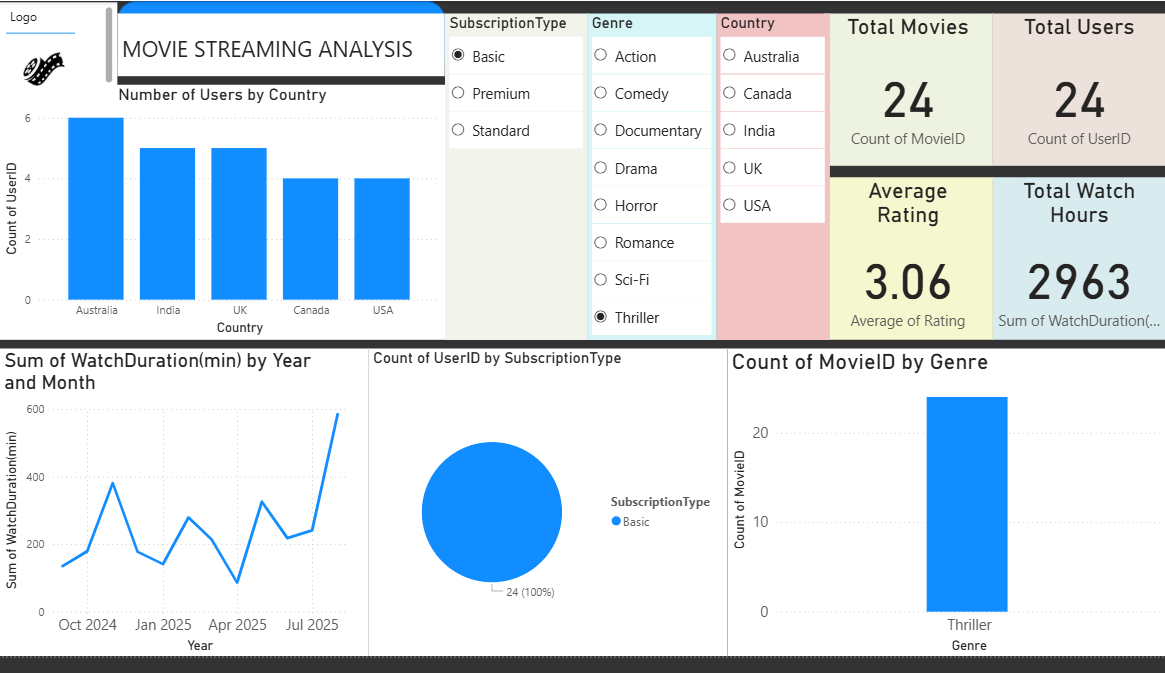

The dashboard page shown, as its layout file describes it:
{"tool":"powerbi","page":{"name":"Page 1","canvas":[1280,720],"ordinal":0},"visuals":[{"type":"card","title":"Total Watch Hours","fields":{"Values":["Sum(Movie_Streaming_Analytics.WatchDuration(min))"]},"box":[1089.5,193.5,190.7,178.4],"z":0},{"type":"card","title":"Total Movies","fields":{"Values":["CountNonNull(Movie_Streaming_Analytics.MovieID)"]},"box":[904.3,13.7,185.2,167.4],"z":1000},{"type":"card","title":"Average Rating","fields":{"Values":["Avg(Movie_Streaming_Analytics.Rating)"]},"box":[904.3,193.5,185.2,178.4],"z":2000},{"type":"card","title":"Total Users","fields":{"Values":["CountNonNull(Movie_Streaming_Analytics.UserID)"]},"box":[1089.5,13.7,190.7,167.4],"z":3000},{"type":"clusteredColumnChart","fields":{"Category":["Movie_Streaming_Analytics.Genre"],"Y":["CountNonNull(Movie_Streaming_Analytics.MovieID)"]},"box":[798.6,381.5,481.6,338.9],"z":4000},{"type":"lineChart","fields":{"Y":["Sum(Movie_Streaming_Analytics.WatchDuration(min))"],"Category":["Movie_Streaming_Analytics.ReleaseDate.Variation.Date Hierarchy.Year","Movie_Streaming_Analytics.ReleaseDate.Variation.Date Hierarchy.Month"]},"box":[0,381.5,404.8,338.9],"z":5000},{"type":"pieChart","fields":{"Category":["Movie_Streaming_Analytics.SubscriptionType"],"Y":["CountNonNull(Movie_Streaming_Analytics.UserID)"]},"box":[404.8,381.5,393.8,338.9],"z":6000},{"type":"clusteredColumnChart","title":"Number of Users by Country","fields":{"Y":["CountNonNull(Movie_Streaming_Analytics.UserID)"],"Category":["Movie_Streaming_Analytics.Country"]},"box":[0,91.9,488.5,279.9],"z":7000},{"type":"listSlicer","fields":{"Values":["Movie_Streaming_Analytics.Country"]},"box":[786.3,13.7,124.9,358.1],"z":8000},{"type":"listSlicer","fields":{"Values":["Movie_Streaming_Analytics.Genre"]},"box":[644.9,13.7,141.3,358.1],"z":9000},{"type":"listSlicer","fields":{"Values":["Movie_Streaming_Analytics.SubscriptionType"]},"box":[488.5,13.7,156.4,358.1],"z":10000},{"type":"shape","box":[0,13.7,26.1,27.4],"z":11000},{"type":"tableEx","fields":{"Values":["Movie_Streaming_Analytics.Logo"]},"box":[0,1.4,129,105.7],"z":12000},{"type":"shape","box":[129,0,359.5,82.3],"z":13000},{"type":"textbox","box":[129,13.7,359.5,68.6],"z":14000}]}

Visuals, with their boxes in screenshot pixels (x1, y1, x2, y2), scaled from the page's 1280x720 canvas onto the 1165x673 screenshot:
"Total Watch Hours" card: x1=992 y1=181 x2=1164 y2=348
"Total Movies" card: x1=823 y1=13 x2=992 y2=169
"Average Rating" card: x1=823 y1=181 x2=992 y2=348
"Total Users" card: x1=992 y1=13 x2=1164 y2=169
clusteredColumnChart - Movie_Streaming_Analytics.Genre x CountNonNull(Movie_Streaming_Analytics.MovieID): x1=727 y1=357 x2=1164 y2=672
lineChart - Sum(Movie_Streaming_Analytics.WatchDuration(min)) x Movie_Streaming_Analytics.ReleaseDate.Variation.Date Hierarchy.Year: x1=0 y1=357 x2=368 y2=672
pieChart - Movie_Streaming_Analytics.SubscriptionType x CountNonNull(Movie_Streaming_Analytics.UserID): x1=368 y1=357 x2=727 y2=672
"Number of Users by Country" clusteredColumnChart: x1=0 y1=86 x2=445 y2=348
listSlicer - Movie_Streaming_Analytics.Country: x1=716 y1=13 x2=829 y2=348
listSlicer - Movie_Streaming_Analytics.Genre: x1=587 y1=13 x2=716 y2=348
listSlicer - Movie_Streaming_Analytics.SubscriptionType: x1=445 y1=13 x2=587 y2=348
shape: x1=0 y1=13 x2=24 y2=38
tableEx - Movie_Streaming_Analytics.Logo: x1=0 y1=1 x2=117 y2=100
shape: x1=117 y1=0 x2=445 y2=77
textbox: x1=117 y1=13 x2=445 y2=77
